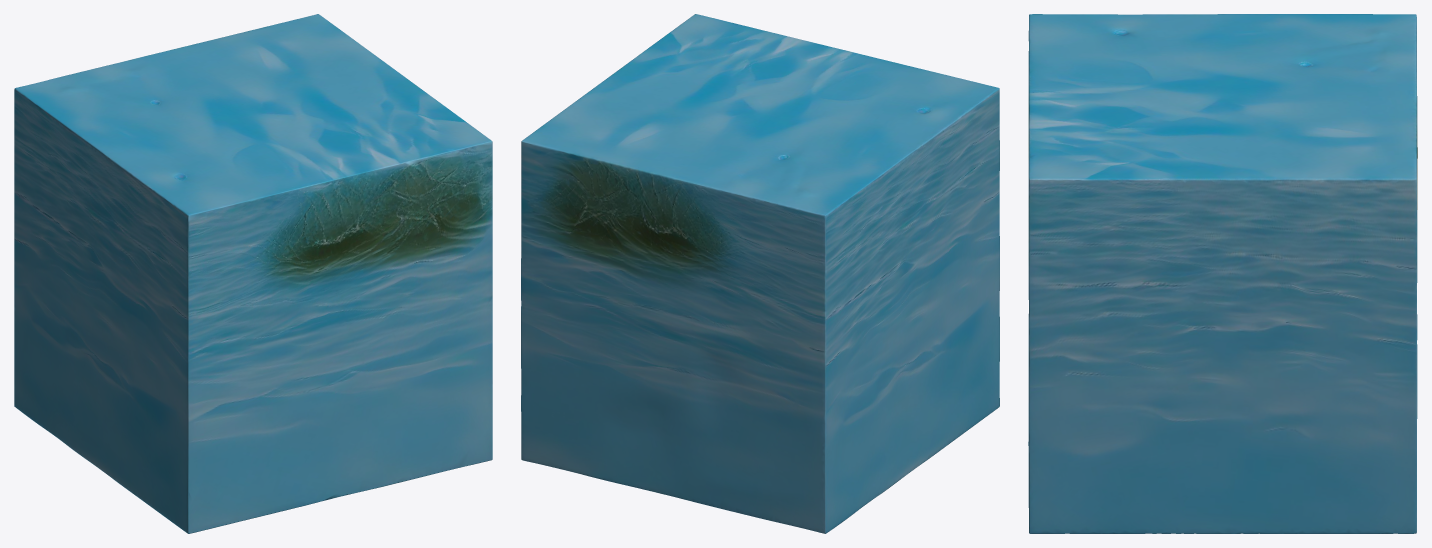
The model's file is nature-lake.glb.
3 renders of one model, left to right at view 1: azimuth 30°, elevation 25°; view 2: azimuth 150°, elevation 25°; view 3: azimuth 270°, elevation 25°, orthographic. The views are drawn at different scales.
Parts seen in each view (by area): view 1: tripo_node_fbb62b42-d94c-4d5a-b4da-0f95194ffadb; view 2: tripo_node_fbb62b42-d94c-4d5a-b4da-0f95194ffadb; view 3: tripo_node_fbb62b42-d94c-4d5a-b4da-0f95194ffadb.
Part boxes in pixels (<box>): tripo_node_fbb62b42-d94c-4d5a-b4da-0f95194ffadb: <box>14,14,492,533</box>; tripo_node_fbb62b42-d94c-4d5a-b4da-0f95194ffadb: <box>521,14,999,533</box>; tripo_node_fbb62b42-d94c-4d5a-b4da-0f95194ffadb: <box>1028,14,1417,533</box>.
Size of the model in its own units: 0.0995 by 0.1 by 0.0988.
Materials: 1 (1 with a texture image).
